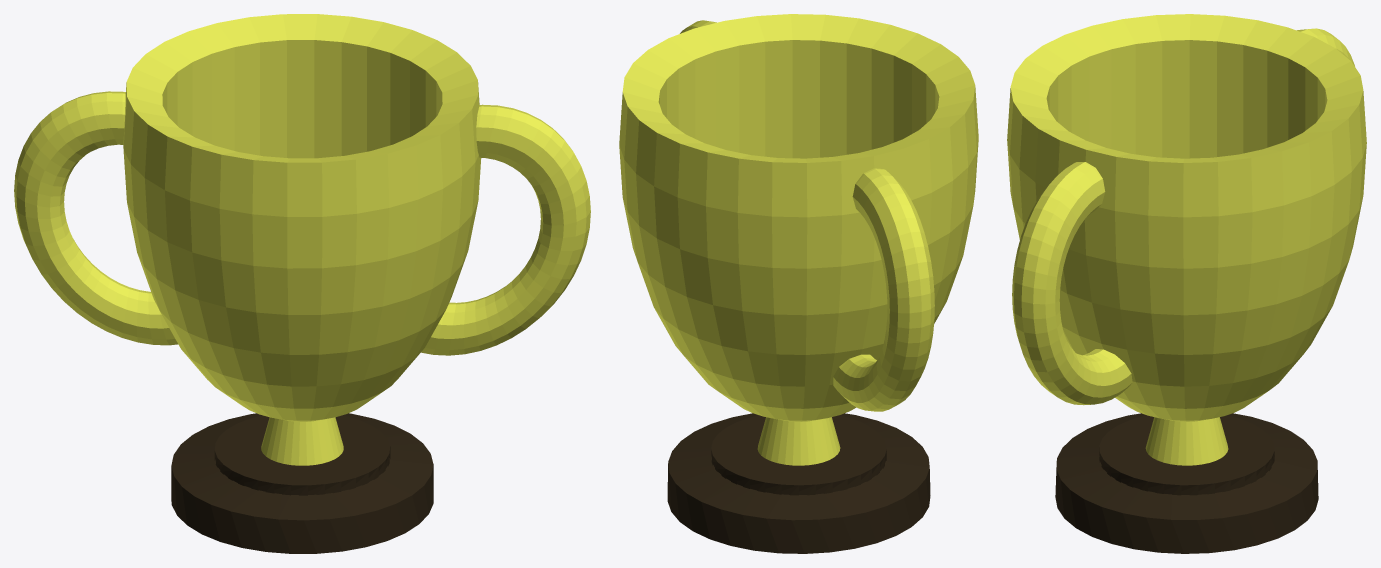
The model's file is trophy.glb.
3 views of the same model, side by side, from view 1: azimuth 30°, elevation 25°; view 2: azimuth 150°, elevation 25°; view 3: azimuth 270°, elevation 25° (orthographic).
Parts seen in each view (by area): view 1: Sphere, Cylinder, Torus, Torus.001, Cone; view 2: Sphere, Cylinder, Torus.001, Cone; view 3: Sphere, Cylinder, Torus, Cone, Torus.001.
Boxes of the visible parts, <box> form: Sphere: <box>123,14,481,421</box>; Cylinder: <box>171,413,433,553</box>; Torus: <box>421,104,590,355</box>; Torus.001: <box>14,91,177,345</box>; Cone: <box>261,417,343,465</box>; Sphere: <box>619,14,978,421</box>; Cylinder: <box>667,413,930,553</box>; Torus.001: <box>833,168,934,411</box>; Cone: <box>757,417,840,465</box>; Sphere: <box>1007,14,1366,421</box>; Cylinder: <box>1055,413,1318,553</box>; Torus: <box>1012,162,1132,405</box>; Cone: <box>1145,417,1228,465</box>; Torus.001: <box>1297,28,1354,66</box>.
Size of the model in its own units: 0.733 by 0.687 by 0.5466.
